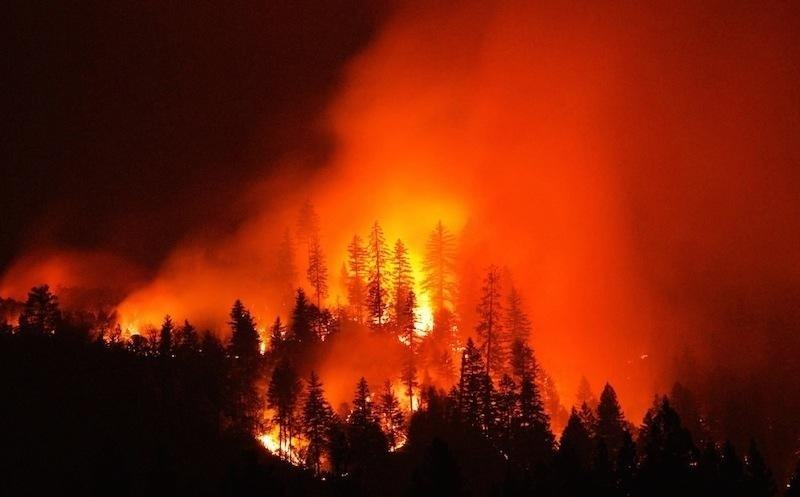fire: (340, 228, 451, 348), (258, 415, 309, 468)
